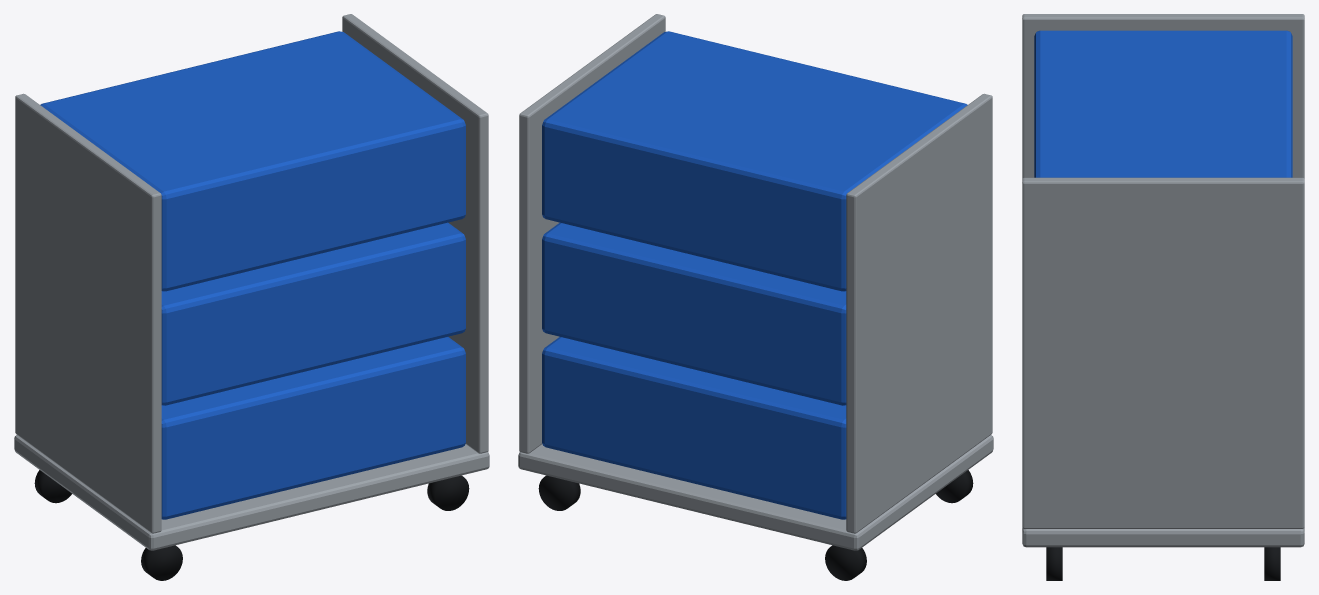
Rendered from bin_cart.glb.
3 renders of one model, left to right at view 1: azimuth 30°, elevation 25°; view 2: azimuth 150°, elevation 25°; view 3: azimuth 270°, elevation 25°, orthographic. The views are drawn at different scales.
Visible parts, largest first — view 1: bin_cart; view 2: bin_cart; view 3: bin_cart.
Part boxes in pixels (<box>): bin_cart: <box>14,14,489,580</box>; bin_cart: <box>518,14,993,580</box>; bin_cart: <box>1022,14,1304,580</box>.
Size of the model in its own units: 1 by 1.12 by 0.7.
